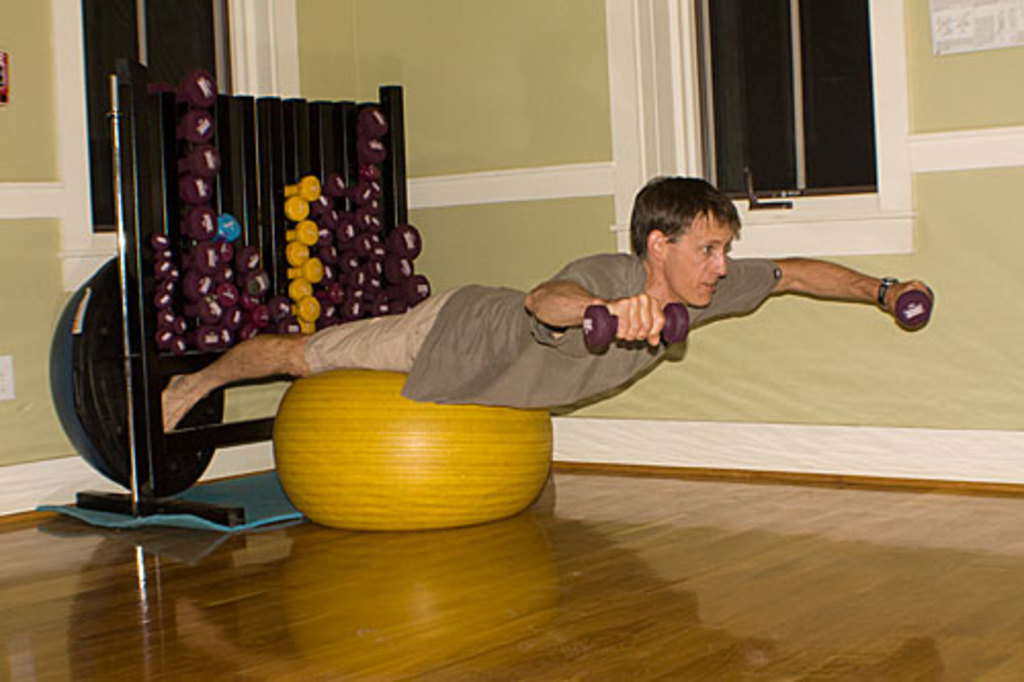Person: (157, 172, 936, 434)
